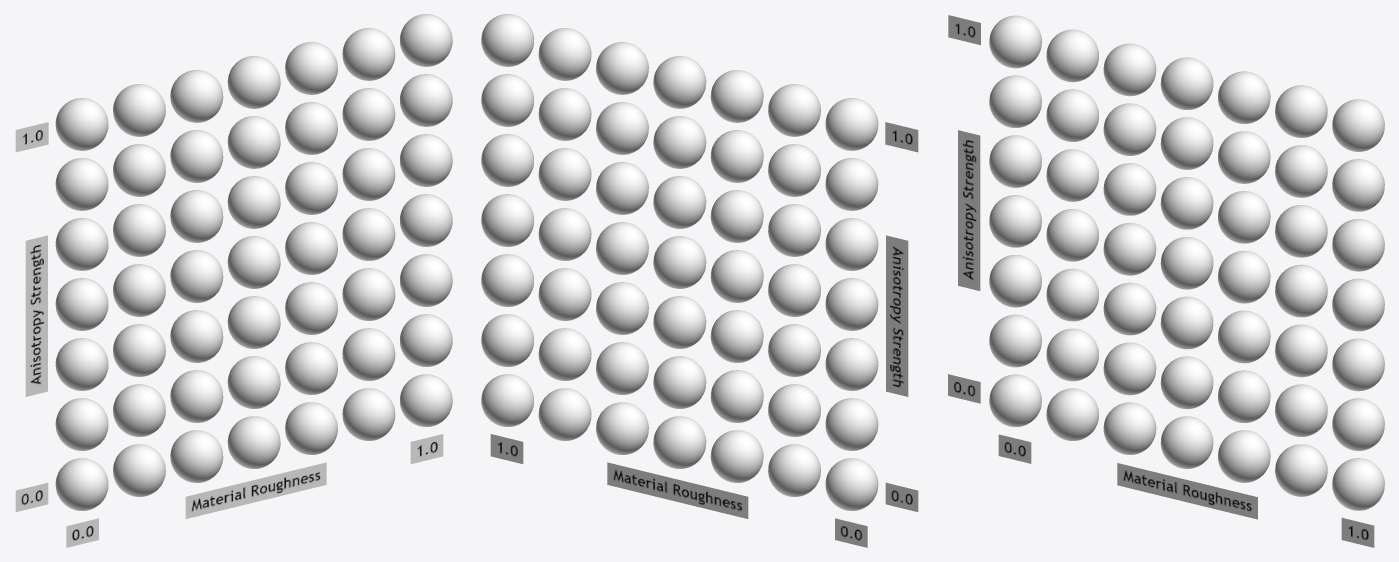
File: AnisotropyStrengthTest.glb
The picture shows the model from 3 angles, left to right: view 1: azimuth 30°, elevation 25°; view 2: azimuth 150°, elevation 25°; view 3: azimuth 330°, elevation 25°; orthographic projection.
Visible parts, largest first — view 1: Labels, object 2, object 5, object 41, object 4, object 42, object 1, object 3, object 7, object 24, object 28, object 38 (+38 smaller); view 2: Labels, object 2, object 5, object 41, object 4, object 42, object 1, object 3, object 7, object 24, object 28, object 38 (+38 smaller); view 3: Labels, object 16, object 24, object 31, object 32, object 43, object 7, object 9, object 14, object 17, object 18, object 36 (+38 smaller).
Part boxes in pixels (x1,y1,x2,y2): Labels: [15, 122, 443, 547]; object 2: [55, 398, 108, 450]; object 5: [55, 218, 108, 270]; object 41: [342, 88, 395, 140]; object 4: [55, 278, 108, 330]; object 42: [342, 28, 395, 80]; object 1: [55, 458, 108, 510]; object 3: [55, 338, 108, 390]; object 7: [55, 98, 108, 150]; object 24: [227, 296, 280, 348]; object 28: [227, 56, 280, 108]; object 38: [342, 268, 395, 320]; Labels: [490, 122, 918, 547]; object 2: [825, 398, 878, 450]; object 5: [825, 218, 878, 270]; object 41: [538, 88, 591, 140]; object 4: [825, 278, 878, 330]; object 42: [538, 28, 591, 80]; object 1: [825, 458, 878, 510]; object 3: [825, 338, 878, 390]; object 7: [825, 98, 878, 150]; object 24: [653, 296, 706, 348]; object 28: [653, 56, 706, 108]; object 38: [538, 268, 591, 320]; Labels: [948, 15, 1374, 547]; object 16: [1103, 342, 1156, 395]; object 24: [1160, 296, 1213, 349]; object 31: [1218, 310, 1270, 363]; object 32: [1218, 250, 1270, 303]; object 43: [1332, 458, 1384, 510]; object 7: [989, 15, 1041, 68]; object 9: [1046, 328, 1098, 381]; object 14: [1046, 29, 1098, 82]; object 17: [1103, 282, 1156, 335]; object 18: [1103, 223, 1156, 275]; object 36: [1275, 444, 1327, 496].
Size of the model in its own units: 7.57 by 7.39 by 0.8.
50 materials, 1 textured.
